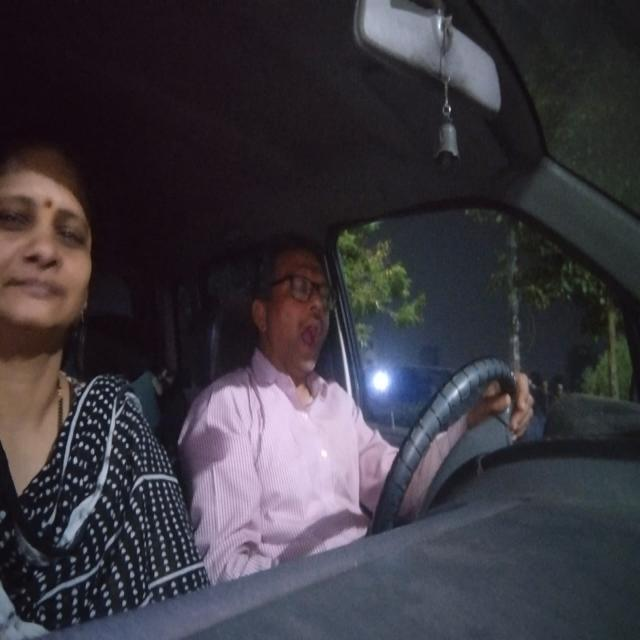drowsy: (248, 225, 348, 395)
person: (0, 116, 112, 381)
